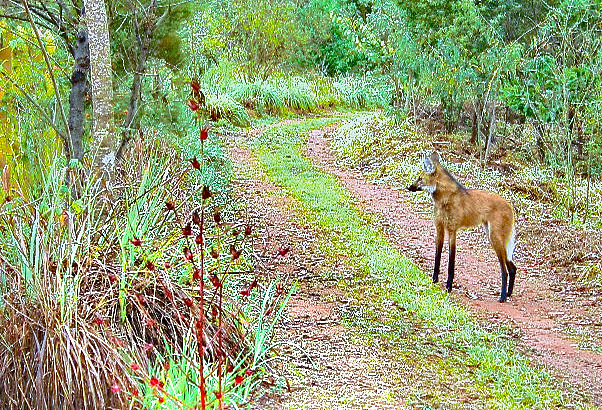LoboGuara: (392, 143, 532, 309)
